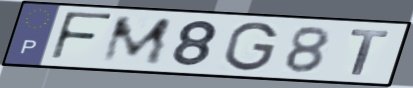8: (168, 18, 220, 69), (284, 24, 332, 75)
F: (47, 10, 117, 63)
G: (222, 20, 280, 73)
M: (98, 16, 175, 66)
T: (348, 28, 391, 77)
